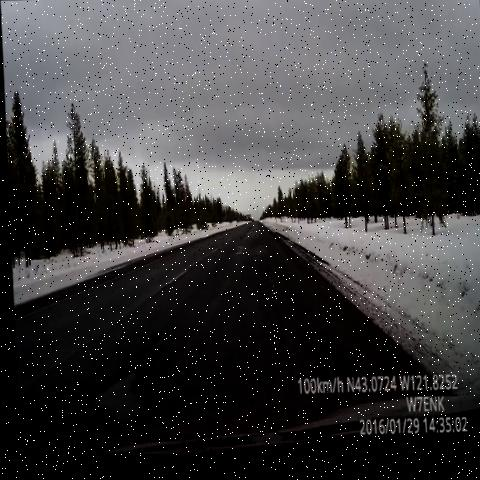pothole: (81, 349, 155, 433), (236, 227, 255, 250)
